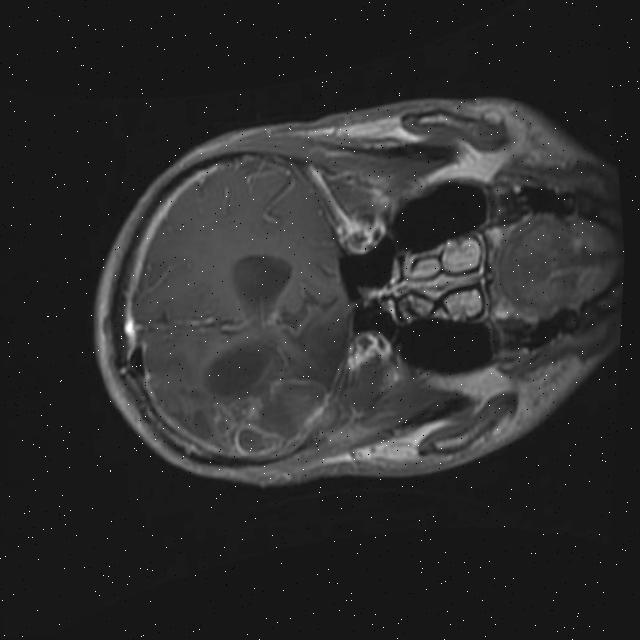Glioma: (203, 388, 288, 462)
